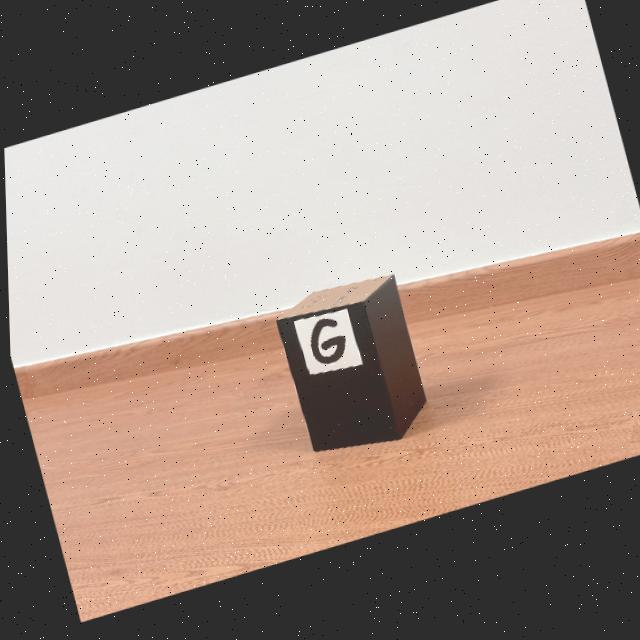G: (308, 323, 344, 369)
